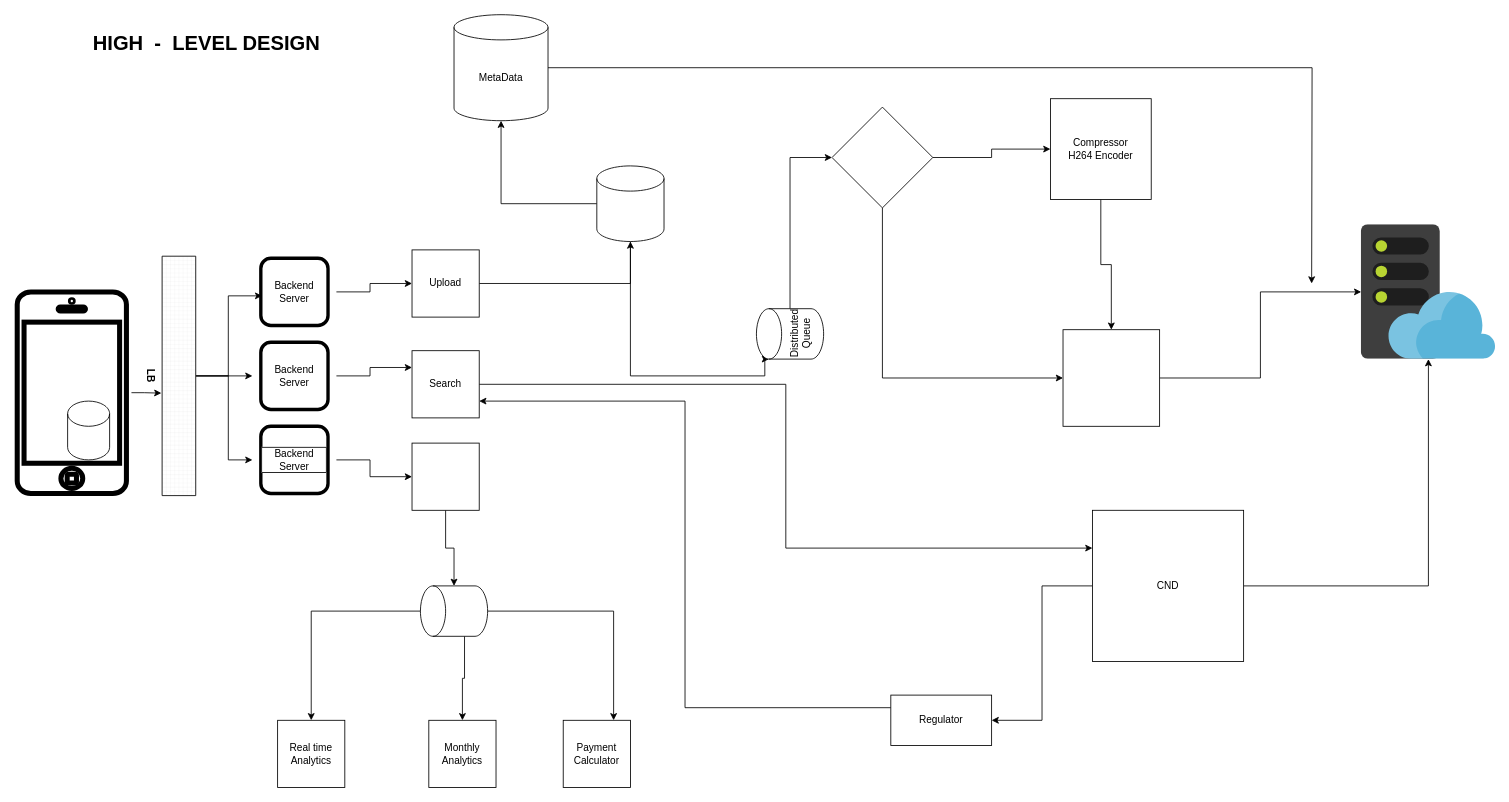
The diagram is 1509 pixels wide and 802 high, and some of its shapes have lost their labels. Here are the shapes that lost their labels. From the top down, the centre of each, then its label:
point 882,157: File Size regulator
point 630,203: Distributed Storage
point 1428,291: AWS S3
point 1111,377: Media Convertor
point 88,430: cache
point 445,476: Stream
point 454,610: queue
